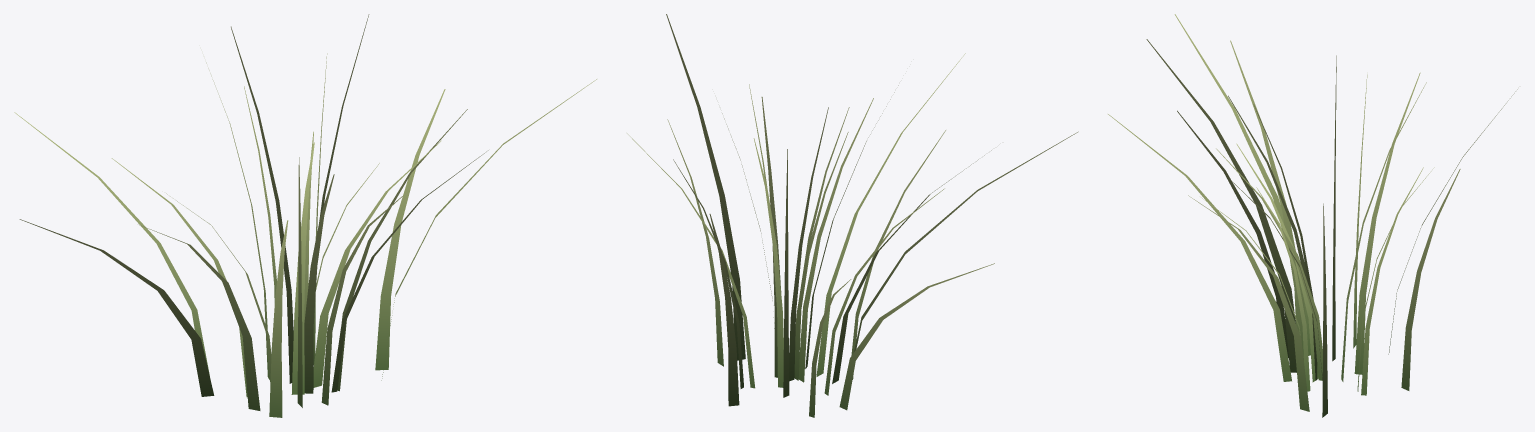
Rendered from grass-tall.glb.
The picture shows the model from 3 angles, left to right: view 1: azimuth 30°, elevation 25°; view 2: azimuth 150°, elevation 25°; view 3: azimuth 270°, elevation 25°; orthographic projection. The views are drawn at different scales.
Visible parts, largest first — view 1: grass-tall; view 2: grass-tall; view 3: grass-tall.
Boxes of the visible parts, x1=… form: grass-tall: x1=14, y1=14, x2=596, y2=417; grass-tall: x1=627, y1=14, x2=1078, y2=417; grass-tall: x1=1108, y1=14, x2=1517, y2=417.
Bounding box in the file's own units: 1.15 × 0.7579 × 0.9564.
